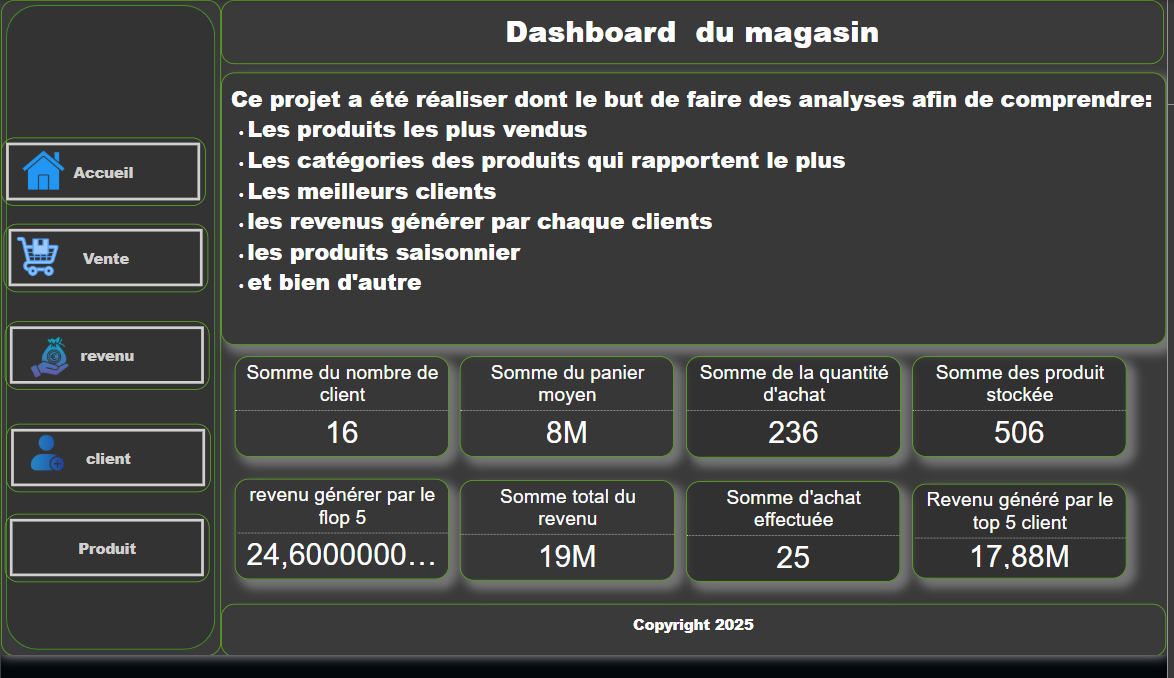

The dashboard page shown, as its layout file describes it:
{"tool":"powerbi","page":{"name":"Accueil","canvas":[1280,720],"ordinal":3},"visuals":[{"type":"shape","box":[0,0,241.7,720],"z":0},{"type":"actionButton","box":[10.1,352,225,75],"z":0,"group":"g1"},{"type":"card","title":"Somme d''achat effectuée","fields":{"Values":["Sum(groupement.nombre_achat)"]},"box":[751.7,527.8,234.8,110.2],"z":0,"group":"g2"},{"type":"textbox","box":[242.1,0,1038.6,70.2],"z":1000},{"type":"actionButton","box":[5.5,150.9,225,75.5],"z":1000,"group":"g1"},{"type":"actionButton","box":[8,245,225,75],"z":2000,"group":"g1"},{"type":"card","title":"Somme total du revenu","fields":{"Values":["Sum(Revenu_Genre.RevenuGenere)"]},"box":[503.6,526.6,236,110.2],"z":2000},{"type":"actionButton","box":[11.1,464.6,225,75],"z":3000,"group":"g1"},{"type":"card","title":"Revenu généré par le top 5 client","fields":{"Values":["Sum(Top_5_meilleur_client_revenu (2).revenu)"]},"box":[999.9,531.4,234.8,104.1],"z":3000,"group":"g2"},{"type":"card","title":"revenu générer par le flop 5","fields":{"Values":["Sum(Top_5_client_revenu.revenu)"]},"box":[256.6,525.4,234.8,110.2],"z":4000},{"type":"actionButton","box":[9.1,563.3,225,75],"z":4000,"group":"g1"},{"type":"group","id":"g1","title":"Groupe 1","box":[5.5,150.9,230.5,488.5],"z":5000},{"type":"image","box":[14.5,159.8,62.9,55.7],"z":6000},{"type":"image","box":[21.8,364.4,61.7,54.5],"z":7000},{"type":"image","box":[15.1,469.3,69,55],"z":8000},{"type":"image","box":[6.1,254.2,69,55.7],"z":9000},{"type":"textbox","box":[242.1,79.9,1037.4,299],"z":10000},{"type":"card","title":"Somme de la quantité d''achat","fields":{"Values":["Sum(groupement.quantité_acheté)"]},"box":[751.7,391,236,111.4],"z":10000,"group":"g2"},{"type":"card","title":"Somme du nombre de client","fields":{"Values":["Sum(Nb_client_tranche_age.nb_client)"]},"box":[256.6,391,235,110],"z":11000},{"type":"card","title":"Somme des produit stockée ","fields":{"Values":["Sum(produit.stock_initial)"]},"box":[999.9,391,235,110],"z":11000,"group":"g2"},{"type":"card","title":"Somme du panier moyen","fields":{"Values":["Sum(detail_information_annuel_mensuel.panier_moyen)"]},"box":[504.2,390.8,235,110.2],"z":12000},{"type":"textbox","box":[242.1,662.1,1037.4,58.1],"z":13000},{"type":"group","id":"g2","title":"Groupe 2","box":[751.7,391,483.2,246.9],"z":14000}]}

Visuals, with their boxes in screenshot pixels (x1, y1, x2, y2), scaled from the page's 1280x720 canvas onto the 1174x678 screenshot:
shape: 0:0:222:677
actionButton: 9:331:216:402
"Somme d''achat effectuée" card: 689:497:905:601
textbox: 222:0:1173:66
actionButton: 5:142:211:213
actionButton: 7:231:214:301
"Somme total du revenu" card: 462:496:678:600
actionButton: 10:437:217:508
"Revenu généré par le top 5 client" card: 917:500:1132:598
"revenu générer par le flop 5" card: 235:495:451:599
actionButton: 8:530:215:601
"Groupe 1" group: 5:142:216:602
image: 13:150:71:203
image: 20:343:77:394
image: 14:442:77:494
image: 6:239:69:292
textbox: 222:75:1173:357
"Somme de la quantité d''achat" card: 689:368:906:473
"Somme du nombre de client" card: 235:368:451:472
"Somme des produit stockée " card: 917:368:1133:472
"Somme du panier moyen" card: 462:368:678:472
textbox: 222:623:1173:677
"Groupe 2" group: 689:368:1133:601
